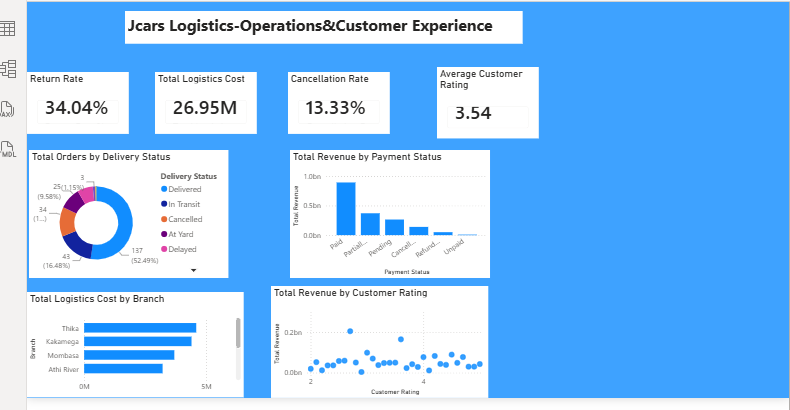

Layout of this report page (visuals, bound fields, positions):
{"tool":"powerbi","page":{"name":"Operations&Customer Expereince","canvas":[1280,720],"ordinal":7},"visuals":[{"type":"cardVisual","title":"Total Logistics Cost","fields":{"Data":["Jcars_Raw.Total Logistics Cost"]},"box":[215,173.3,171,104],"z":0},{"type":"cardVisual","title":"Return Rate","fields":{"Data":["Jcars_Raw.Return Rate %"]},"box":[0,173.3,171,104],"z":1000},{"type":"cardVisual","title":"Cancellation Rate","fields":{"Data":["Jcars_Raw.Cancellation Rate %"]},"box":[438.3,173.3,171,104],"z":2000},{"type":"cardVisual","title":"Average Customer Rating","fields":{"Data":["Jcars_Raw.Average Customer Rating"]},"box":[688.3,165,171,120],"z":3000},{"type":"donutChart","fields":{"Category":["Jcars_factSales.Delivery Status"],"Y":["Jcars_Raw.Total Orders"]},"box":[3.3,303.3,335,215],"z":4000},{"type":"columnChart","fields":{"Category":["Jcars_factSales.Payment Status"],"Y":["Jcars_Raw.Total Revenue"]},"box":[441.7,303.3,336,215],"z":5000},{"type":"clusteredBarChart","fields":{"Category":["Jcars_factSales.Branch"],"Y":["Jcars_Raw.Total Logistics Cost"]},"box":[0,543.3,364,177],"z":6000},{"type":"scatterChart","fields":{"X":["Jcars_factSales.Customer Rating"],"Y":["Jcars_Raw.Total Revenue"]},"box":[410,531.7,364.5,188.1],"z":7000},{"type":"textbox","box":[165,70,668.3,55],"z":8000}]}

Visuals, with their boxes on the page's 1280x720 design canvas (x1, y1, x2, y2). These are canvas units, not pixel positions in the 790x410 screenshot, which may show the page scaled, cropped or inside an application window:
"Total Logistics Cost" cardVisual: [215, 173, 386, 277]
"Return Rate" cardVisual: [0, 173, 171, 277]
"Cancellation Rate" cardVisual: [438, 173, 609, 277]
"Average Customer Rating" cardVisual: [688, 165, 859, 285]
donutChart - Jcars_factSales.Delivery Status x Jcars_Raw.Total Orders: [3, 303, 338, 518]
columnChart - Jcars_factSales.Payment Status x Jcars_Raw.Total Revenue: [442, 303, 778, 518]
clusteredBarChart - Jcars_factSales.Branch x Jcars_Raw.Total Logistics Cost: [0, 543, 364, 720]
scatterChart - Jcars_factSales.Customer Rating x Jcars_Raw.Total Revenue: [410, 532, 774, 720]
textbox: [165, 70, 833, 125]
